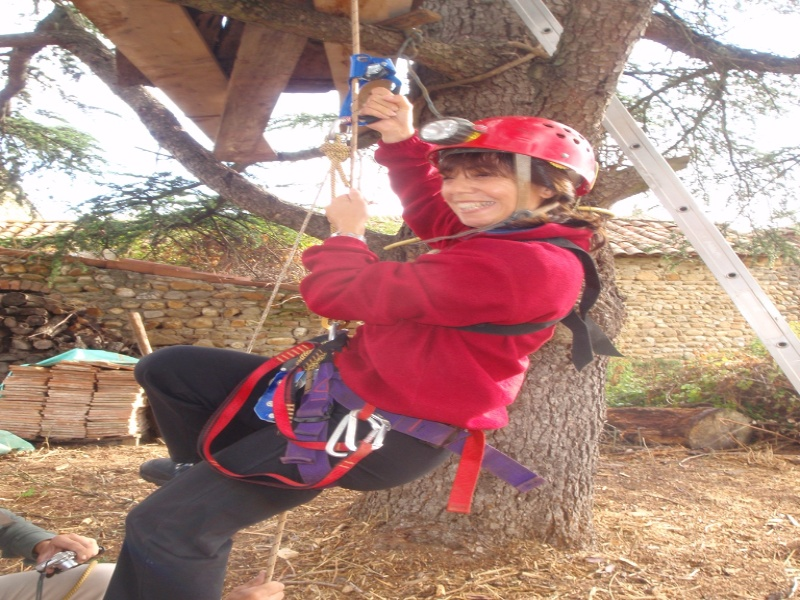helmet: (435, 114, 598, 181)
